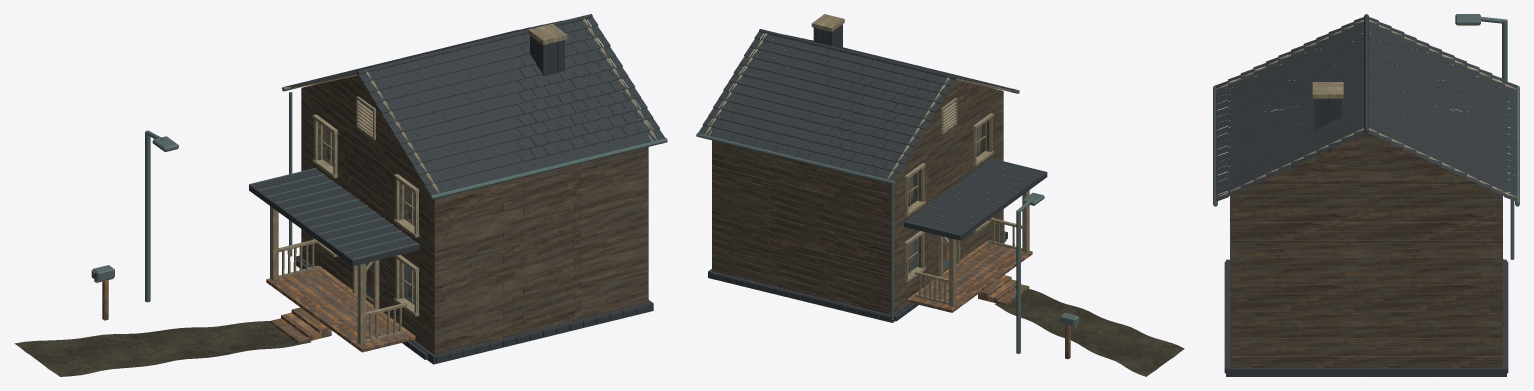
File: roadside-set.glb
The picture shows the model from 3 angles, left to right: view 1: azimuth 30°, elevation 25°; view 2: azimuth 150°, elevation 25°; view 3: azimuth 270°, elevation 25°; orthographic projection. The views are drawn at different scales.
Visible parts, largest first — view 1: VT1 Cleared weatherboard with original worn paint, VT1 Original individually laid slate and brick, VT1 Original faded porch trim, VT1 Original driveway gravel, VT1 Cleared old porch timber, VT1 Original weathered municipal metal, VT1 Warm recessed house window glass; view 2: VT1 Cleared weatherboard with original worn paint, VT1 Original individually laid slate and brick, VT1 Original faded porch trim, VT1 Original driveway gravel, VT1 Cleared old porch timber, VT1 Original weathered municipal metal, VT1 Warm recessed house window glass; view 3: VT1 Cleared weatherboard with original worn paint, VT1 Original individually laid slate and brick, VT1 Original weathered municipal metal, VT1 Original faded porch trim.
Boxes of the visible parts, left/top/right/bottom form: VT1 Cleared weatherboard with original worn paint: left=301, top=23, right=648, bottom=354; VT1 Original individually laid slate and brick: left=249, top=14, right=665, bottom=364; VT1 Original faded porch trim: left=92, top=18, right=656, bottom=344; VT1 Original driveway gravel: left=14, top=321, right=311, bottom=376; VT1 Cleared old porch timber: left=102, top=266, right=415, bottom=352; VT1 Original weathered municipal metal: left=91, top=29, right=667, bottom=302; VT1 Warm recessed house window glass: left=323, top=127, right=414, bottom=303; VT1 Cleared weatherboard with original worn paint: left=712, top=36, right=1003, bottom=314; VT1 Original individually laid slate and brick: left=698, top=24, right=1047, bottom=322; VT1 Original faded porch trim: left=705, top=14, right=1078, bottom=327; VT1 Original driveway gravel: left=995, top=289, right=1184, bottom=376; VT1 Cleared old porch timber: left=907, top=240, right=1070, bottom=359; VT1 Original weathered municipal metal: left=696, top=48, right=1079, bottom=353; VT1 Warm recessed house window glass: left=908, top=123, right=984, bottom=271; VT1 Cleared weatherboard with original worn paint: left=1230, top=27, right=1502, bottom=367; VT1 Original individually laid slate and brick: left=1215, top=14, right=1517, bottom=376; VT1 Original weathered municipal metal: left=1213, top=14, right=1519, bottom=259; VT1 Original faded porch trim: left=1215, top=20, right=1517, bottom=197.
Bounding box in the file's own units: 14.4 × 6.8 × 7.21.
8 materials, 6 textured.
